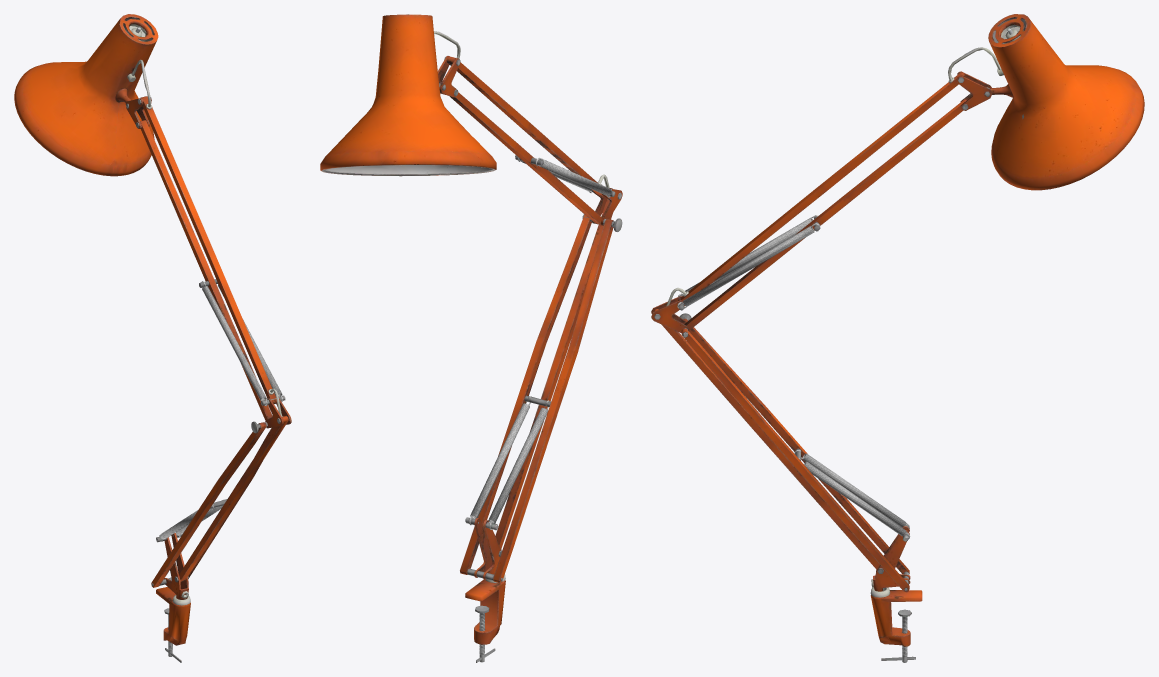
File: desk_lamp_arm_01.glb
3 views of the same model, side by side, from view 1: azimuth 30°, elevation 25°; view 2: azimuth 150°, elevation 25°; view 3: azimuth 270°, elevation 25° (orthographic). The views are drawn at different scales.
Visible parts, largest first — view 1: desk_lamp_arm_01; view 2: desk_lamp_arm_01; view 3: desk_lamp_arm_01.
Part boxes in pixels (<box>): desk_lamp_arm_01: <box>14,14,291,662</box>; desk_lamp_arm_01: <box>320,14,622,662</box>; desk_lamp_arm_01: <box>651,14,1144,662</box>.
Bounding box in the file's own units: 0.2017 × 0.8926 × 0.6139.
2 materials, 2 textured.
